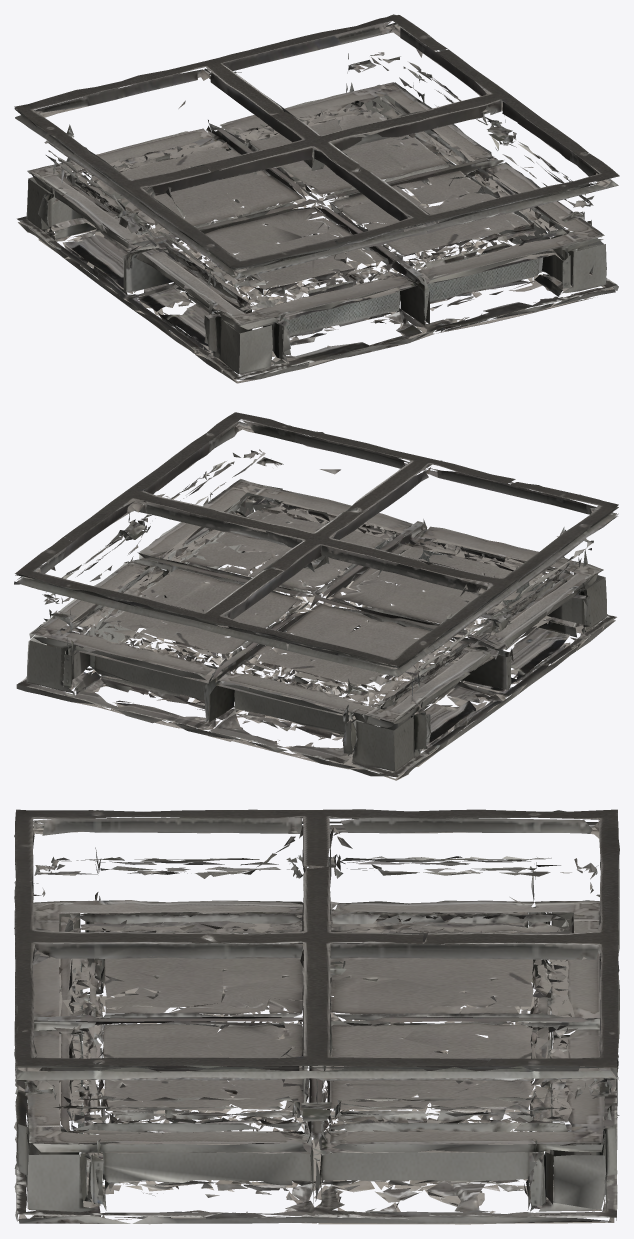
File: Env_CeilingPanel_4m.fbx
3 views of the same model, one above another, from view 1: azimuth 30°, elevation 25°; view 2: azimuth 150°, elevation 25°; view 3: azimuth 270°, elevation 25° (orthographic). The views are drawn at different scales.
Parts seen in each view (by area): view 1: texture_mapping; view 2: texture_mapping; view 3: texture_mapping.
Part boxes in pixels (x1=…): texture_mapping: x1=14, y1=14, x2=619, y2=383; texture_mapping: x1=14, y1=412, x2=618, y2=780; texture_mapping: x1=14, y1=809, x2=619, y2=1224.
Bounding box in the file's own units: 0.9915 × 0.2989 × 0.9795.
